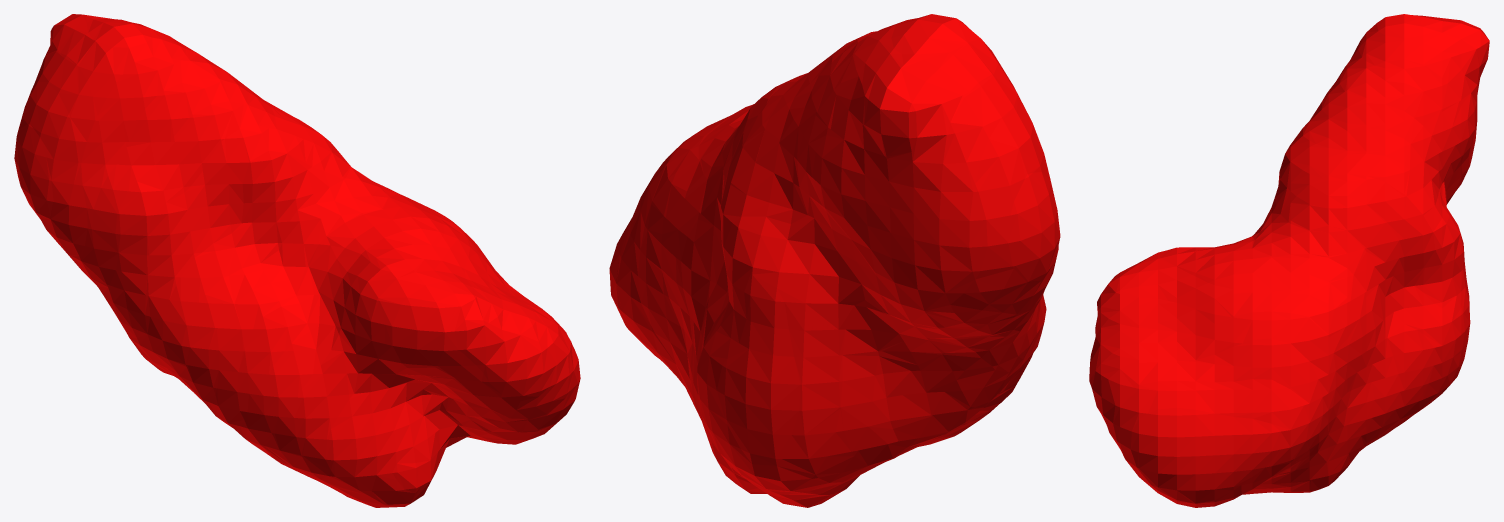
File: yqiC_coarse.dae
3 renders of one model, left to right at view 1: azimuth 30°, elevation 25°; view 2: azimuth 150°, elevation 25°; view 3: azimuth 270°, elevation 25°, orthographic. The views are drawn at different scales.
Visible parts, largest first — view 1: yqiC; view 2: yqiC; view 3: yqiC.
Boxes of the visible parts, box(x1,y1,x2,y2) form: yqiC: box(14, 14, 580, 507); yqiC: box(609, 14, 1060, 507); yqiC: box(1089, 14, 1489, 507).
Bounding box in the file's own units: 43.48 × 44.09 × 39.78.
